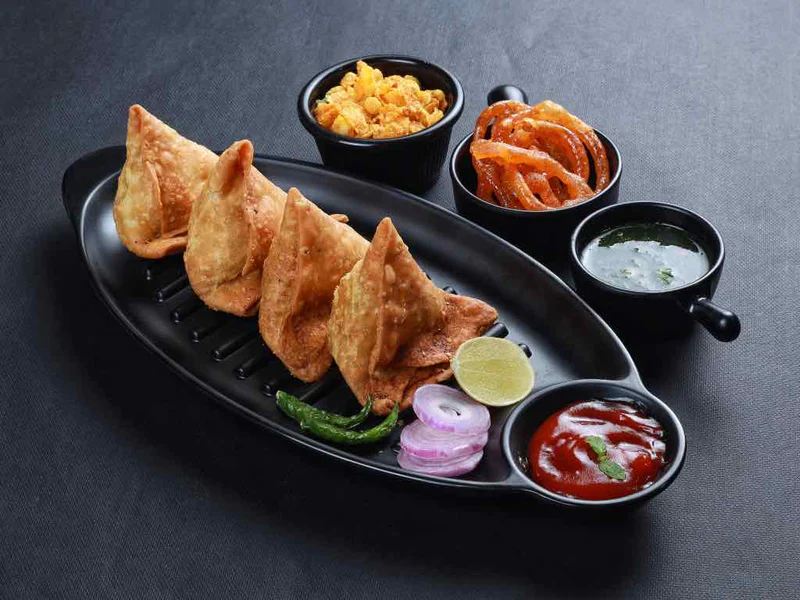samosa: (334, 213, 483, 420), (266, 186, 380, 370), (196, 127, 299, 301), (110, 96, 216, 253)
